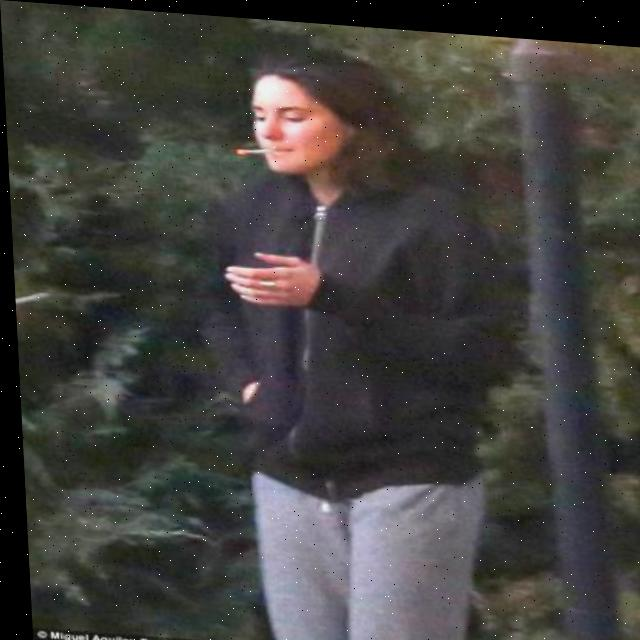cigarette: (234, 143, 273, 152)
